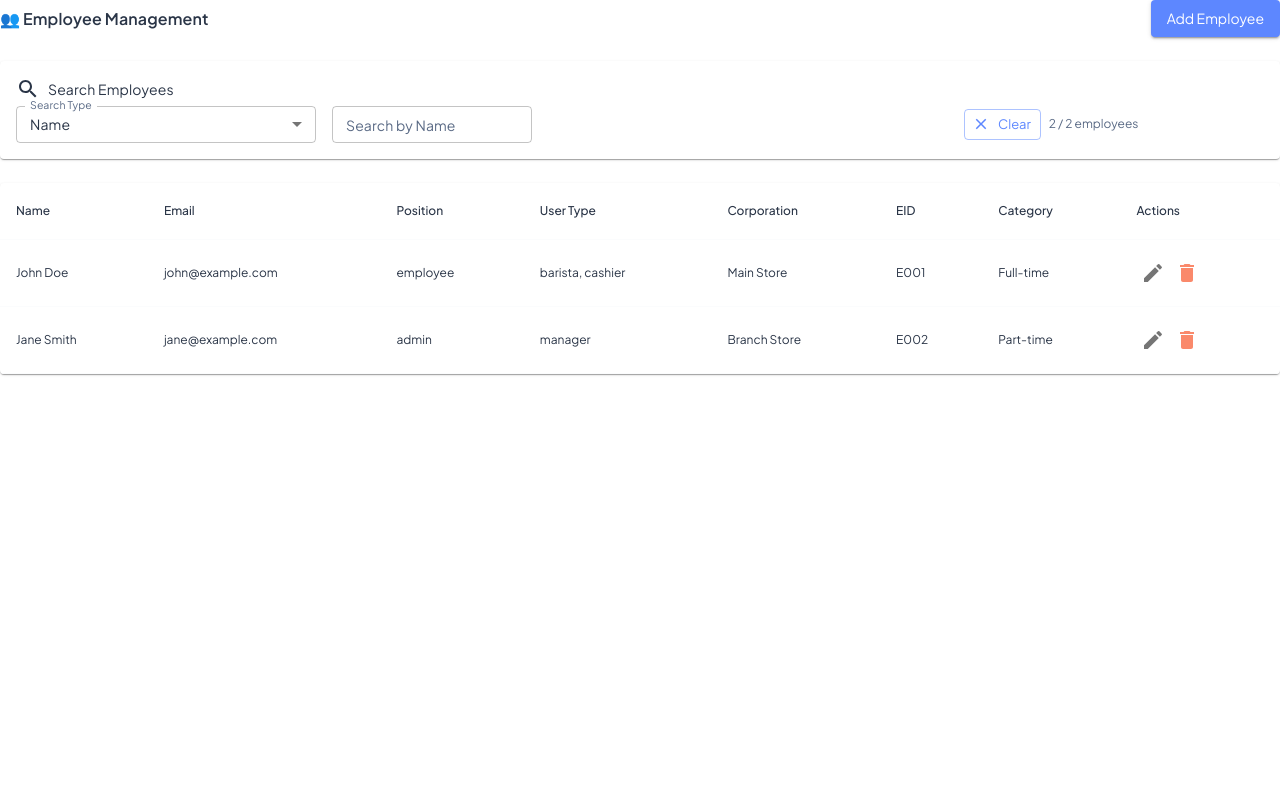
it: EmployeeManagement › Dialog Operations › opens add employee dialog
Click the button "Add Employee". click: [1215, 18]
box: [1151,0,1279,36]
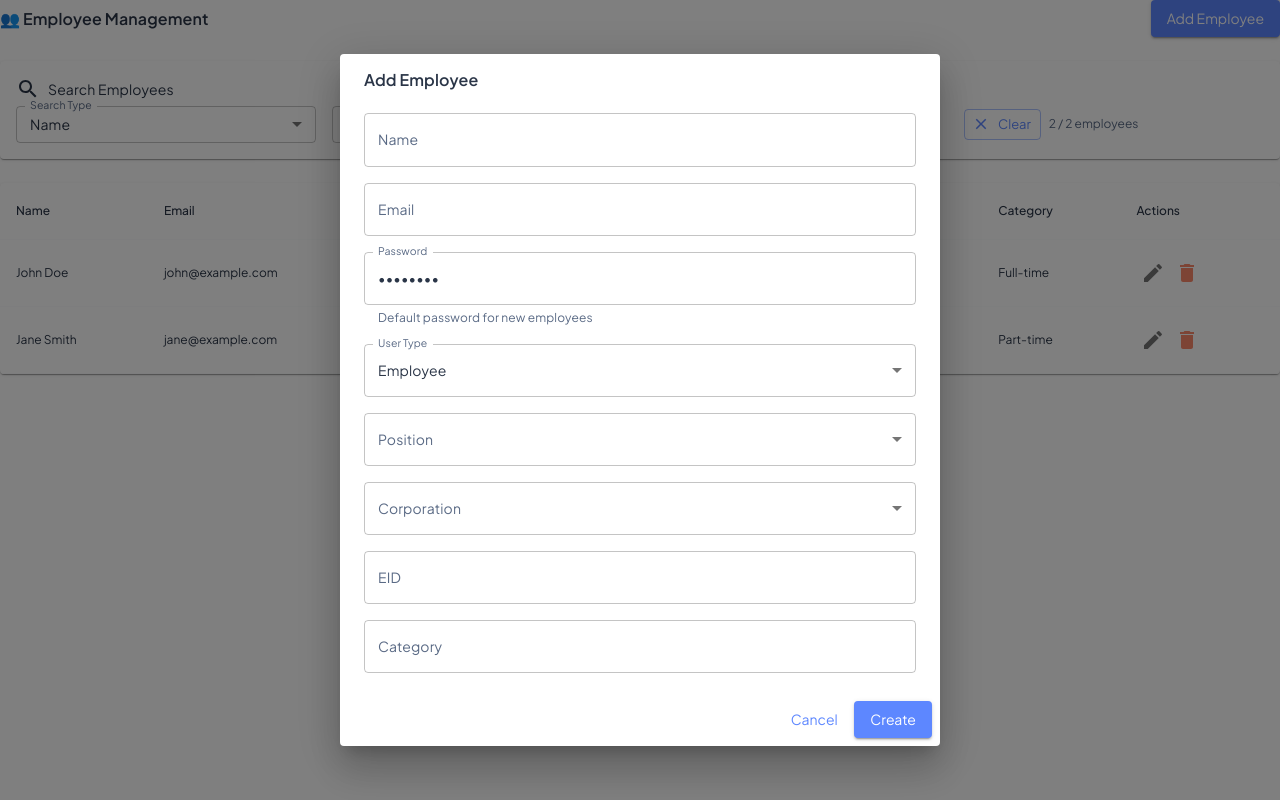
Result: the dialog is shown at [340,54,940,746]
Result: the field labelled "Name" is shown at [364,113,916,166]
Result: the field labelled "Email" is shown at [364,182,916,236]
